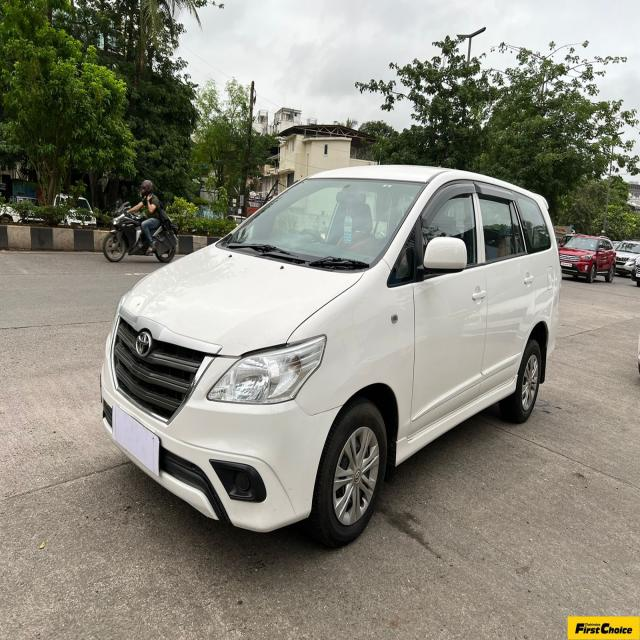light_vehicle: (558, 234, 617, 283)
